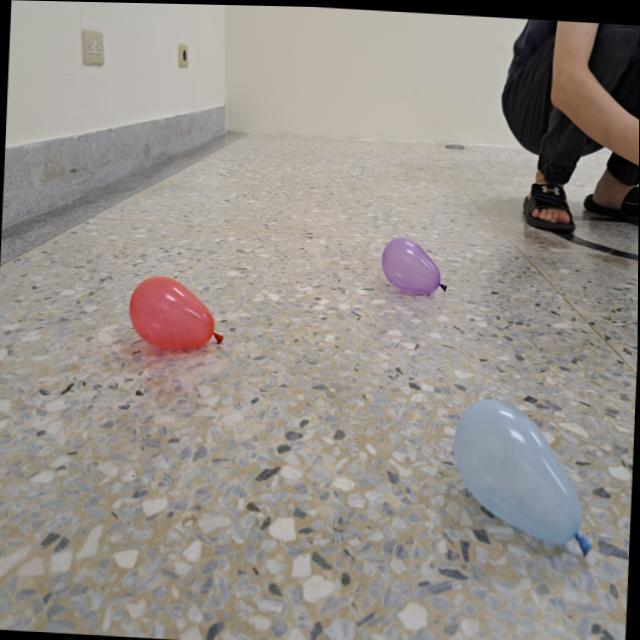other: (448, 392, 599, 557), (382, 234, 449, 295)
red: (126, 273, 227, 353)
